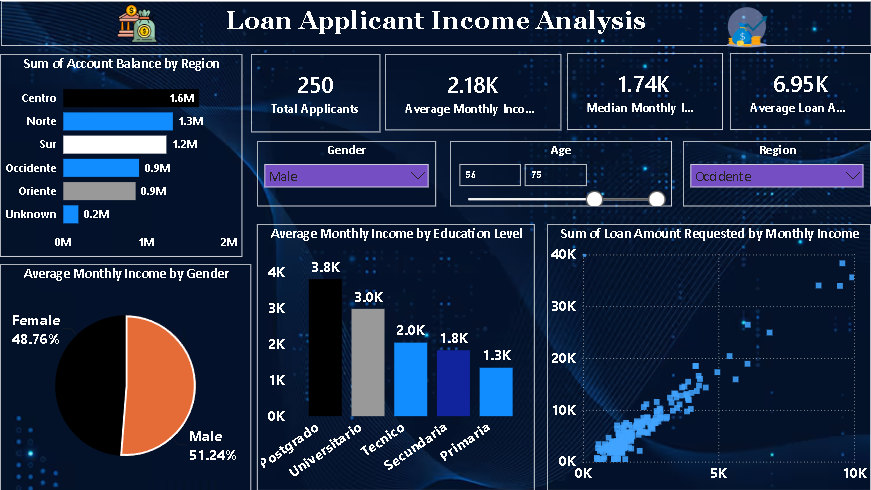

This screenshot's page, from the dashboard's own definition file:
{"tool":"powerbi","page":{"name":"Page 1","canvas":[1280,720],"ordinal":0},"visuals":[{"type":"cardVisual","fields":{"Data":["datos_faltantes_banca.Total Applicants"]},"box":[368.8,77.9,189.6,114.6],"z":0},{"type":"cardVisual","fields":{"Data":["datos_faltantes_banca.Average Monthly Income"]},"box":[565.7,77.9,258.6,111.7],"z":1000},{"type":"cardVisual","fields":{"Data":["datos_faltantes_banca.Median Monthly Income"]},"box":[833.1,76.4,229.2,113.1],"z":2000},{"type":"cardVisual","fields":{"Data":["datos_faltantes_banca.Average Loan Amount"]},"box":[1072.7,76.4,207.2,113.1],"z":3000},{"type":"columnChart","fields":{"Category":["datos_faltantes_banca.Education Level"],"Y":["datos_faltantes_banca.Average Monthly Income"]},"box":[377.6,327.7,408.5,392.3],"z":4000},{"type":"scatterChart","fields":{"X":["datos_faltantes_banca.Monthly Income"],"Y":["Sum(datos_faltantes_banca.Loan Amount Requested)"]},"box":[803.8,327.7,476.1,392.3],"z":6000},{"type":"pieChart","fields":{"Category":["datos_faltantes_banca.Gender"],"Y":["datos_faltantes_banca.Average Monthly Income"]},"box":[0,386.4,368.8,333.6],"z":7000},{"type":"slicer","title":"Region","fields":{"Values":["datos_faltantes_banca.Region"]},"box":[1003.6,205.7,276.2,95.5],"z":8000},{"type":"slicer","title":"Age","fields":{"Values":["datos_faltantes_banca.Age"]},"box":[661.2,205.7,326.2,95.5],"z":8001},{"type":"barChart","fields":{"Category":["datos_faltantes_banca.Region"],"Y":["Sum(datos_faltantes_banca.Account Balance)"]},"box":[0,77.9,355.6,298.3],"z":8002},{"type":"slicer","title":"Gender","fields":{"Values":["datos_faltantes_banca.Gender"]},"box":[377.6,205.7,263,95.5],"z":8003},{"type":"textbox","box":[1.5,0,1278.7,65.7],"z":8004},{"type":"image","box":[98.4,0,205.7,66.1],"z":8005},{"type":"image","box":[987.5,0,220.5,76.8],"z":8006}]}

Visuals, with their boxes in screenshot pixels (x1, y1, x2, y2), scaled from the page's 1280x720 canvas onto the 871x490 screenshot:
cardVisual - datos_faltantes_banca.Total Applicants: x1=251, y1=53, x2=380, y2=131
cardVisual - datos_faltantes_banca.Average Monthly Income: x1=385, y1=53, x2=561, y2=129
cardVisual - datos_faltantes_banca.Median Monthly Income: x1=567, y1=52, x2=723, y2=129
cardVisual - datos_faltantes_banca.Average Loan Amount: x1=730, y1=52, x2=870, y2=129
columnChart - datos_faltantes_banca.Education Level x datos_faltantes_banca.Average Monthly Income: x1=257, y1=223, x2=535, y2=489
scatterChart - datos_faltantes_banca.Monthly Income x Sum(datos_faltantes_banca.Loan Amount Requested): x1=547, y1=223, x2=870, y2=489
pieChart - datos_faltantes_banca.Gender x datos_faltantes_banca.Average Monthly Income: x1=0, y1=263, x2=251, y2=489
"Region" slicer: x1=683, y1=140, x2=870, y2=205
"Age" slicer: x1=450, y1=140, x2=672, y2=205
barChart - datos_faltantes_banca.Region x Sum(datos_faltantes_banca.Account Balance): x1=0, y1=53, x2=242, y2=256
"Gender" slicer: x1=257, y1=140, x2=436, y2=205
textbox: x1=1, y1=0, x2=870, y2=45
image: x1=67, y1=0, x2=207, y2=45
image: x1=672, y1=0, x2=822, y2=52
